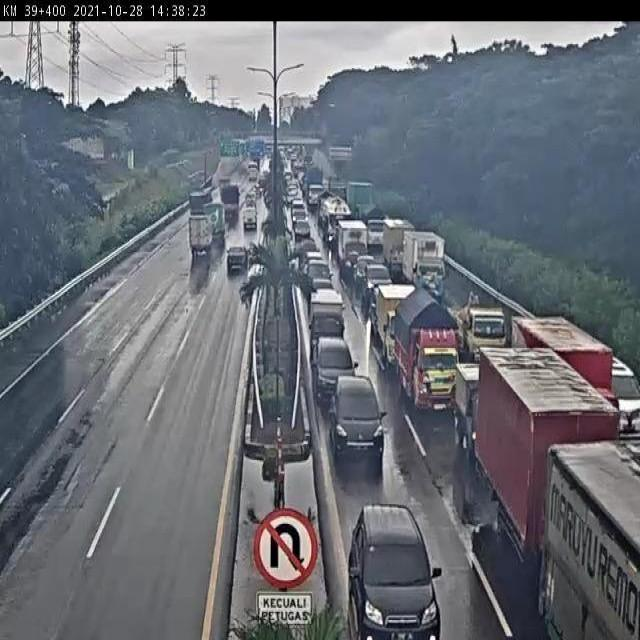car: (331, 498, 450, 640), (322, 369, 387, 474), (305, 336, 357, 416), (363, 263, 388, 305), (355, 253, 381, 288), (306, 259, 332, 288), (226, 244, 248, 275), (312, 275, 334, 293)
small truck: (393, 296, 466, 419), (445, 360, 494, 457), (455, 300, 509, 361), (405, 236, 454, 299), (305, 289, 348, 355), (378, 283, 407, 376), (188, 216, 214, 260)
